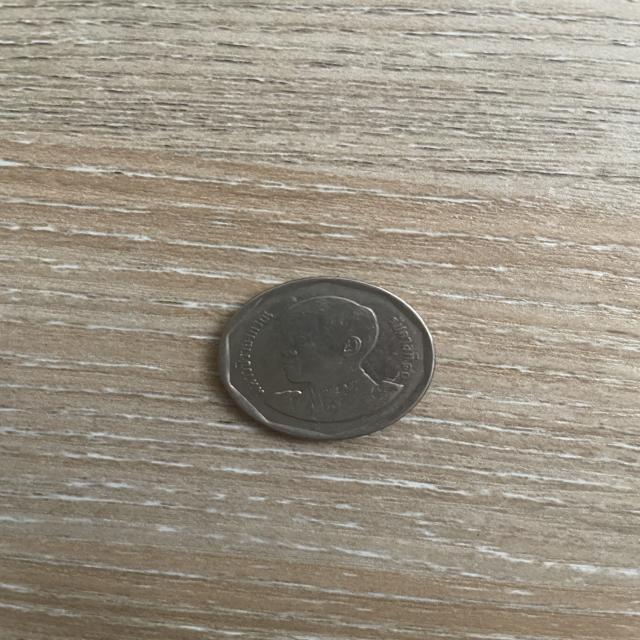5 Bath: (209, 270, 447, 448)
